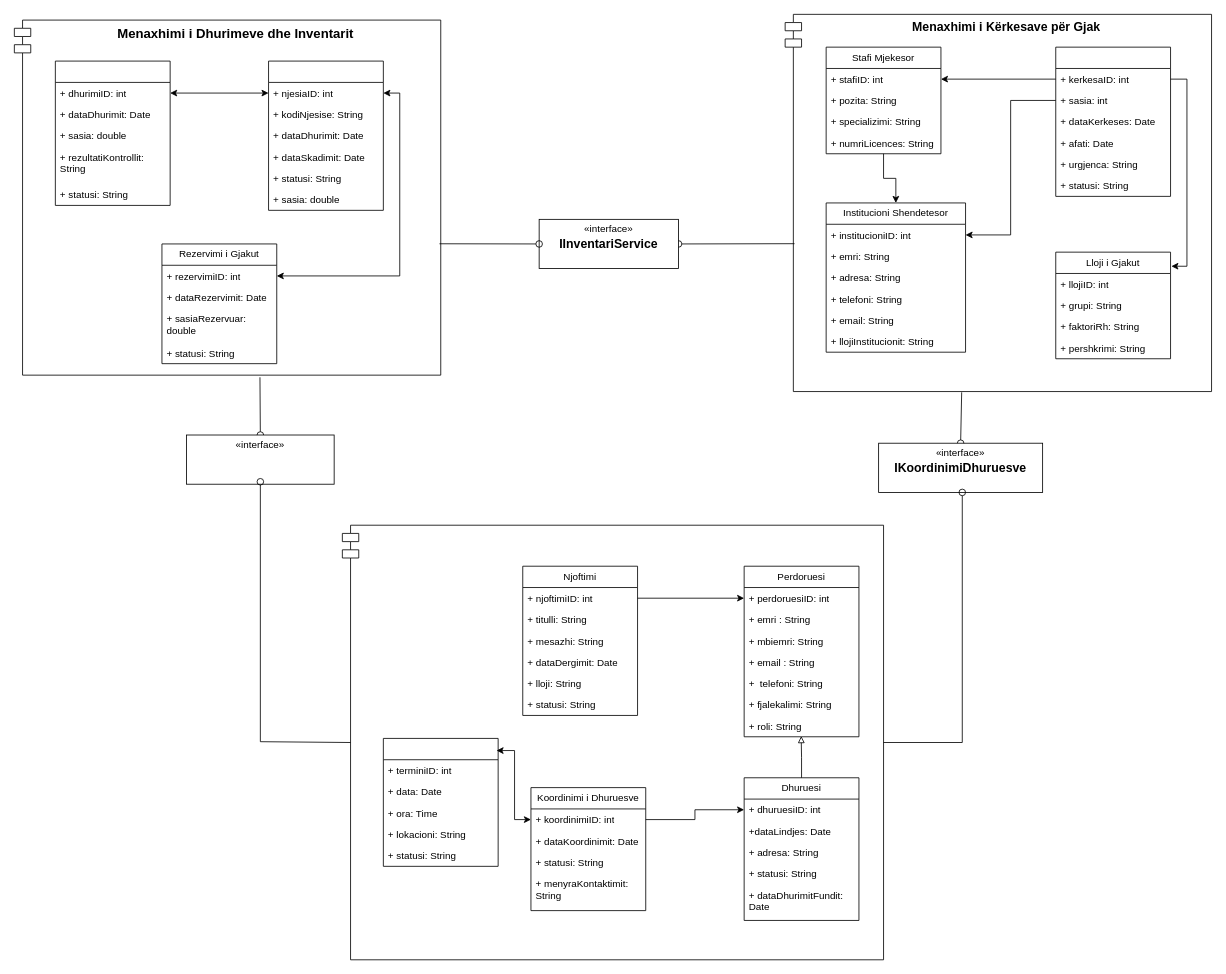
Image size: 1226x974. Some labels were removed from this diagram. The shapes that lost their labels are listed below. From the top down, each one's box as (x1, y1, x2, y2) in pixels, then its label:
(55, 60, 170, 205): Dhurimi i Gjakut
(268, 60, 383, 210): Njesia e Gjakut
(1055, 46, 1171, 196): Kerkesa per Gjak
(186, 434, 334, 484): IDhuruesiService
(342, 524, 884, 960): Menaxhimi i Dhuruesve dhe Koordinimi
(383, 738, 498, 866): Termini i Dhurimit
